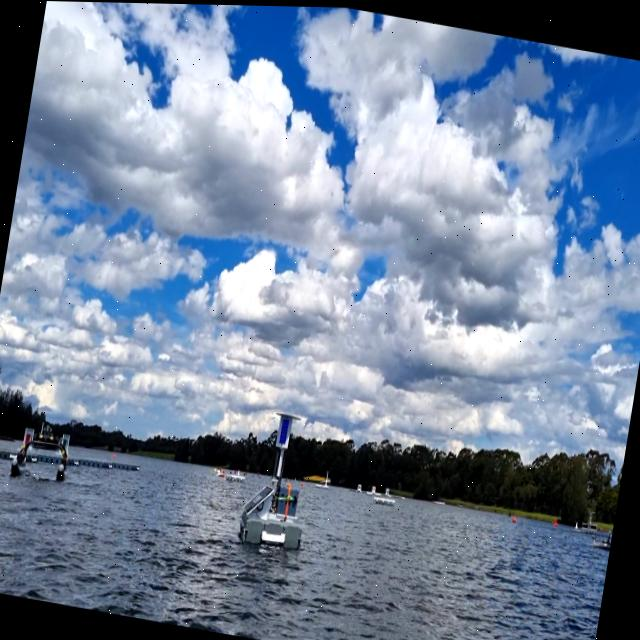led: (277, 414, 291, 446)
